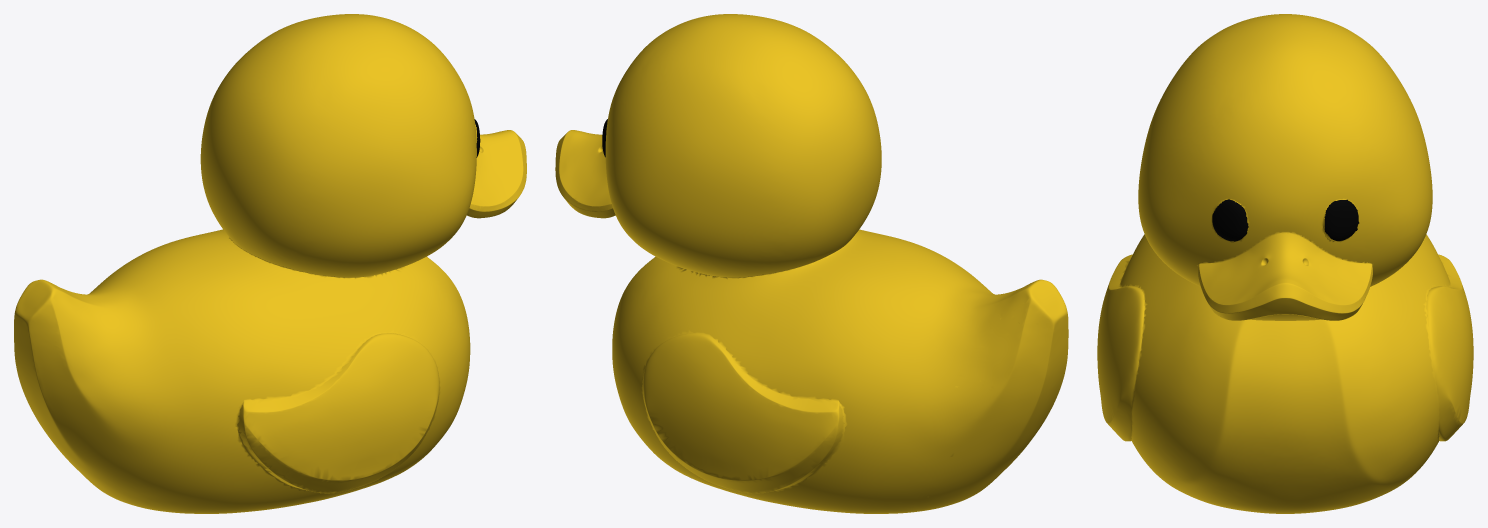
The picture shows the model from 3 angles, left to right: view 1: azimuth 30°, elevation 25°; view 2: azimuth 150°, elevation 25°; view 3: azimuth 270°, elevation 25°; orthographic projection. The views are drawn at different scales.
Visible parts, largest first — view 1: Base Tubbz (5th Anniversary); view 2: Base Tubbz (5th Anniversary); view 3: Base Tubbz (5th Anniversary).
Boxes of the visible parts, <box> form: Base Tubbz (5th Anniversary): <box>14,14,526,513</box>; Base Tubbz (5th Anniversary): <box>555,14,1068,513</box>; Base Tubbz (5th Anniversary): <box>1097,14,1473,513</box>.
Size of the model in its own units: 120 by 94.83 by 71.51.
